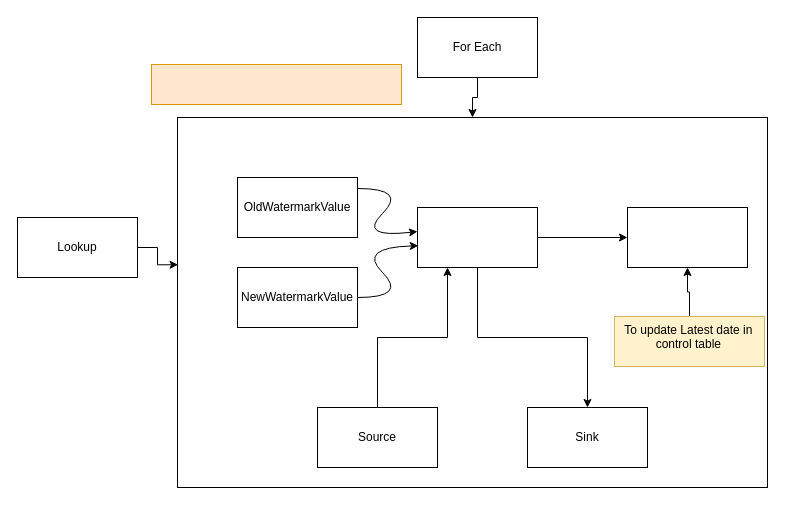
The diagram is 785 pixels wide and 505 high, and some of its shapes have lost their labels. The box of each missing label's shape, as (x1, y1, x2, y2) in pixels:
Copy Data: (416, 206, 538, 268)
Get Data of Difference between Last Load Data and Last Updated At Date: (150, 64, 402, 104)
Stored Procedure: (626, 206, 748, 268)
